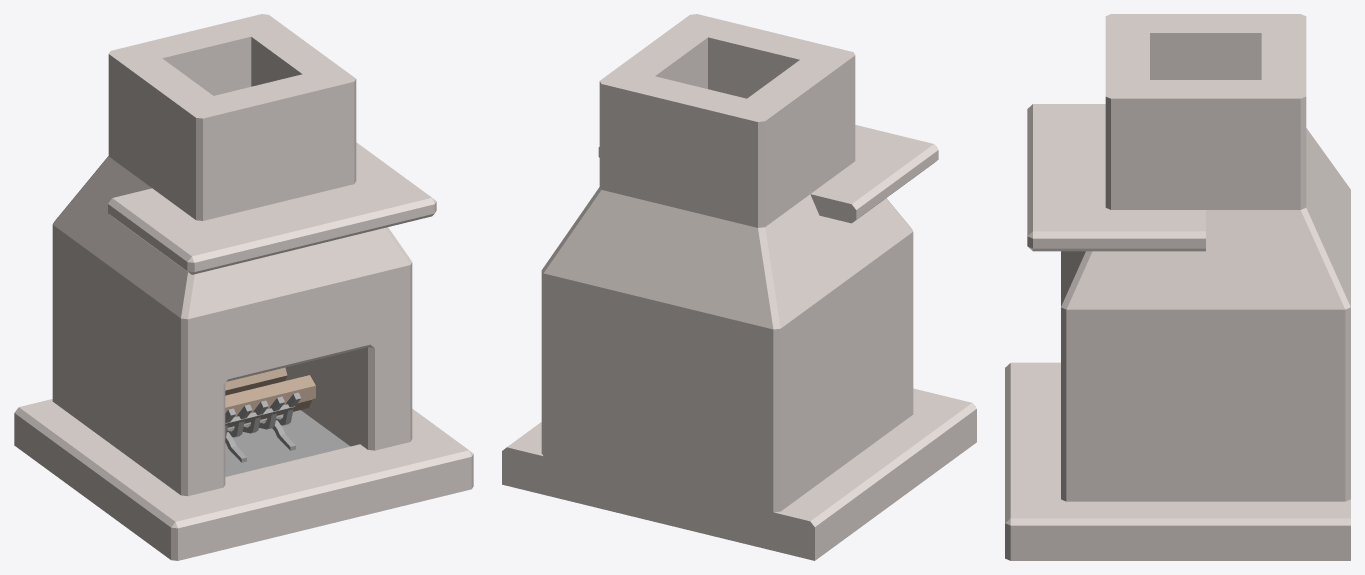
File: Prop_Fireplace.fbx
3 views of the same model, side by side, from view 1: azimuth 30°, elevation 25°; view 2: azimuth 150°, elevation 25°; view 3: azimuth 270°, elevation 25° (orthographic). The views are drawn at different scales.
Parts seen in each view (by area): view 1: object4.007, object5.005, object3.010, object1.021; view 2: object4.007; view 3: object4.007.
Boxes of the visible parts, left/top/right/bottom form: object4.007: left=14, top=14, right=473, bottom=560; object5.005: left=225, top=392, right=301, bottom=462; object3.010: left=225, top=375, right=315, bottom=417; object1.021: left=225, top=367, right=287, bottom=395; object4.007: left=502, top=14, right=976, bottom=560; object4.007: left=1005, top=14, right=1350, bottom=560.
Bounding box in the file's own units: 170 × 210 × 155.
